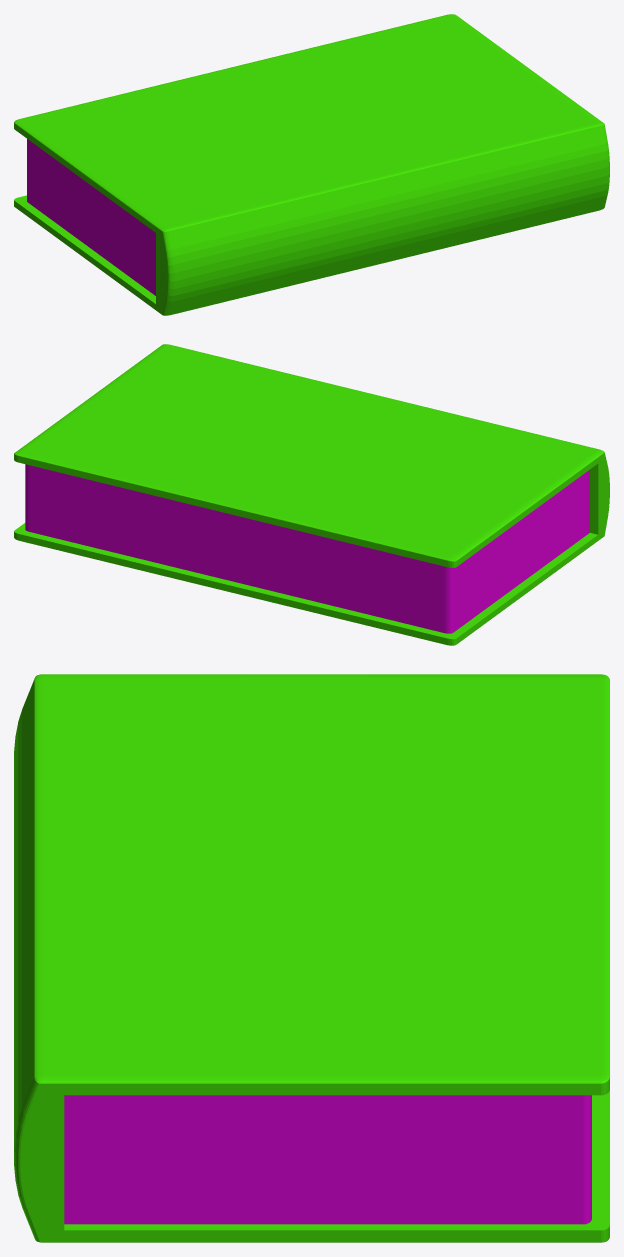
Rendered from Big-Book.fbx.
3 renders of one model, top to bottom at view 1: azimuth 30°, elevation 25°; view 2: azimuth 150°, elevation 25°; view 3: azimuth 270°, elevation 25°, orthographic. The views are drawn at different scales.
Visible parts, largest first — view 1: Big-book-Cover, Big-book-Pages; view 2: Big-book-Cover, Big-book-Pages; view 3: Big-book-Cover, Big-book-Pages.
Boxes of the visible parts, box(x1,y1,x2,y2) form: Big-book-Cover: box(14, 14, 609, 315); Big-book-Pages: box(27, 139, 155, 295); Big-book-Cover: box(14, 344, 609, 645); Big-book-Pages: box(25, 464, 589, 633); Big-book-Cover: box(14, 674, 609, 1242); Big-book-Pages: box(64, 1095, 591, 1224).
Size of the model in its own units: 270 by 50.28 by 166.
